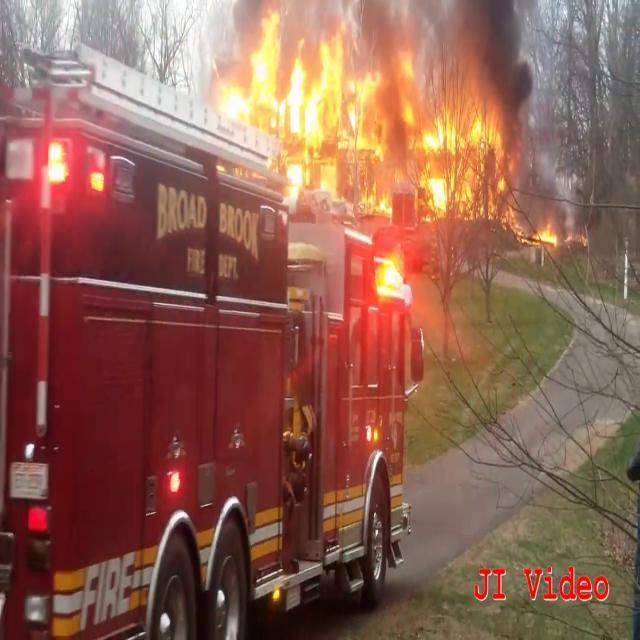Fire: (206, 4, 509, 229), (521, 213, 569, 252)
